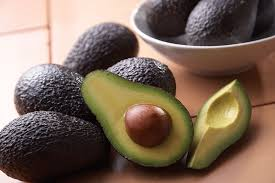avocado: (81, 70, 193, 168)
